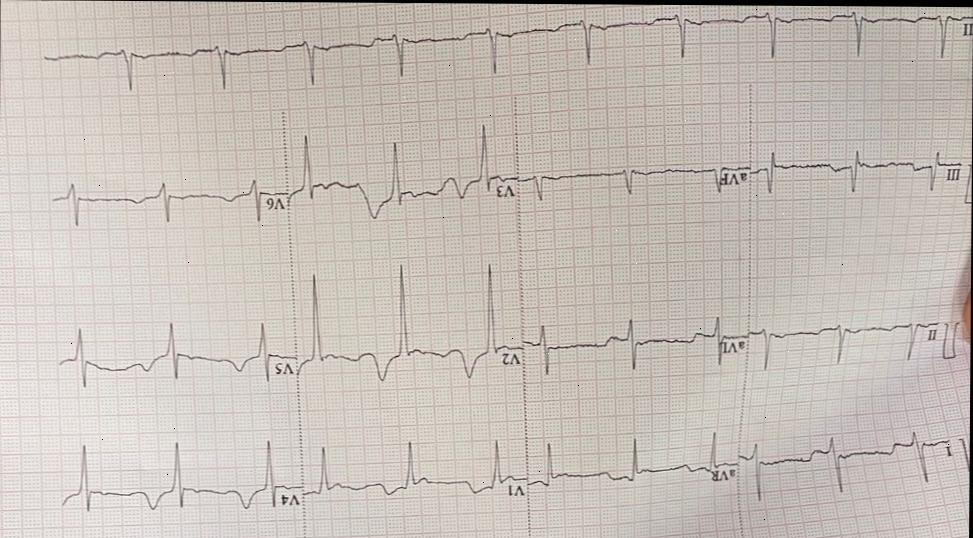Lead_I: (736, 422, 959, 503)
Lead_II: (748, 304, 943, 375)
Lead_III: (747, 132, 964, 204)
Lead_II_ext: (26, 2, 973, 106)
Lead_V1: (303, 429, 529, 513)
Lead_V2: (293, 251, 528, 394)
Lead_V3: (286, 113, 515, 239)
Lead_V4: (56, 420, 306, 534)
Lead_V5: (45, 314, 300, 399)
Lead_V6: (43, 164, 290, 240)
Lead_aVF: (513, 147, 752, 205)
Lead_aVL: (523, 309, 751, 376)
Lead_aVR: (527, 422, 742, 503)
